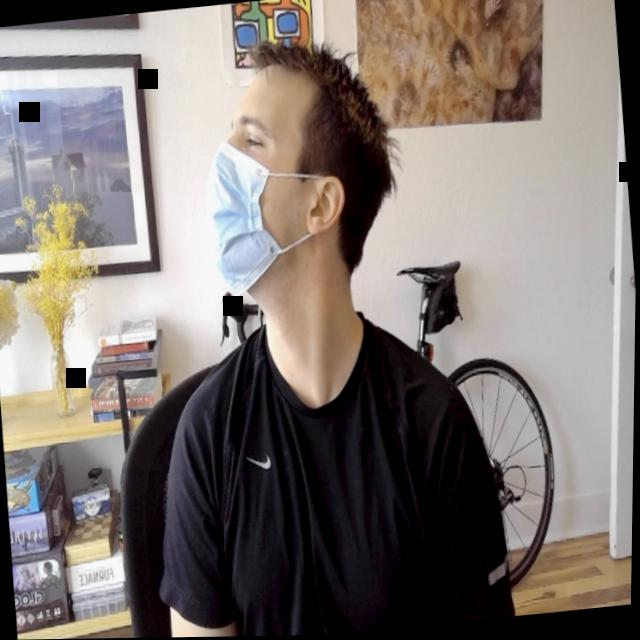Mask: (191, 61, 334, 300)
